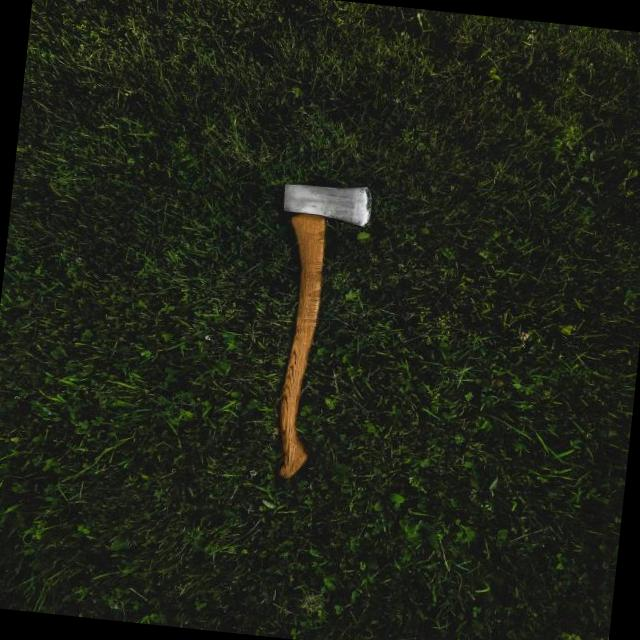Gun: (279, 185, 370, 477)
